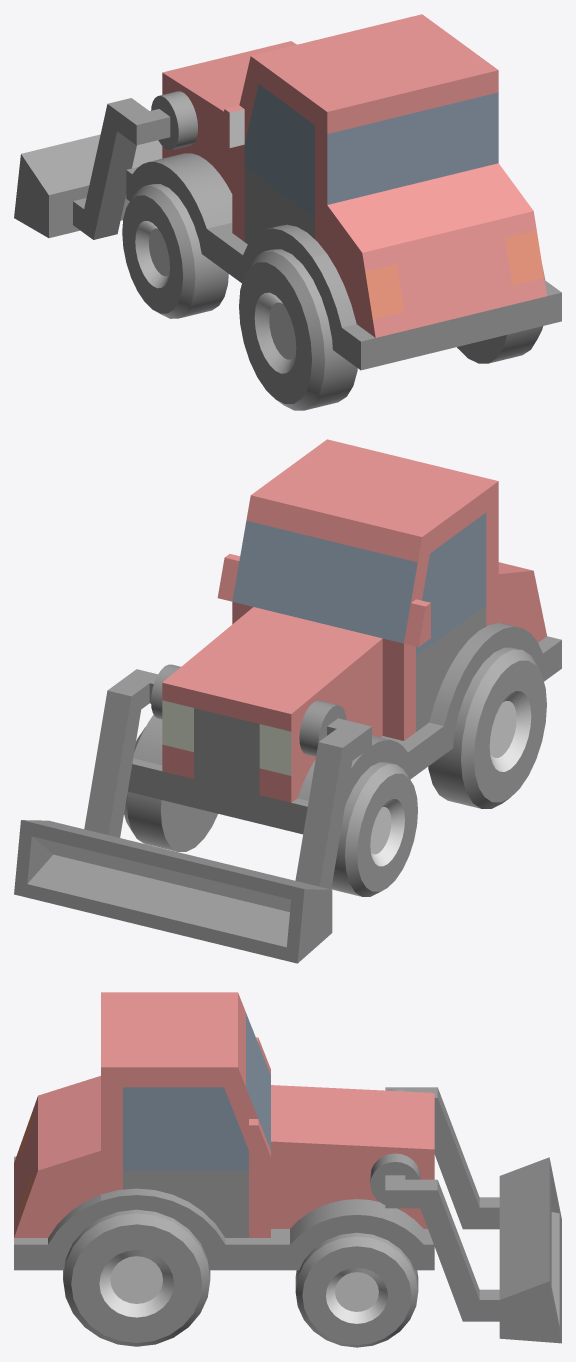
The model's file is carTractorShovel.gltf.
3 renders of one model, top to bottom at view 1: azimuth 30°, elevation 25°; view 2: azimuth 150°, elevation 25°; view 3: azimuth 270°, elevation 25°, orthographic. The views are drawn at different scales.
Visible parts, largest first — view 1: body 11, shovel, wheelBackLeft 11, wheelFrontLeft 11, wheelBackRight 11; view 2: body 11, shovel, wheelBackLeft 11, wheelFrontLeft 11, wheelFrontRight 11; view 3: body 11, shovel, wheelBackRight 11, wheelFrontRight 11.
Boxes of the visible parts, x1,y1,x2,y2 form: body 11: (126, 14, 561, 370); shovel: (14, 91, 197, 239); wheelBackLeft 11: (239, 249, 357, 410); wheelFrontLeft 11: (122, 184, 228, 318); wheelBackRight 11: (457, 266, 545, 363); body 11: (128, 439, 561, 834); shovel: (14, 664, 371, 963); wheelBackLeft 11: (428, 647, 546, 808); wheelFrontLeft 11: (331, 762, 417, 896); wheelFrontRight 11: (124, 727, 217, 851); body 11: (14, 992, 434, 1270); shovel: (370, 1087, 561, 1343); wheelBackRight 11: (63, 1209, 210, 1346); wheelFrontRight 11: (295, 1232, 418, 1347).
Size of the model in its own units: 0.6698 by 0.6825 by 1.25.
